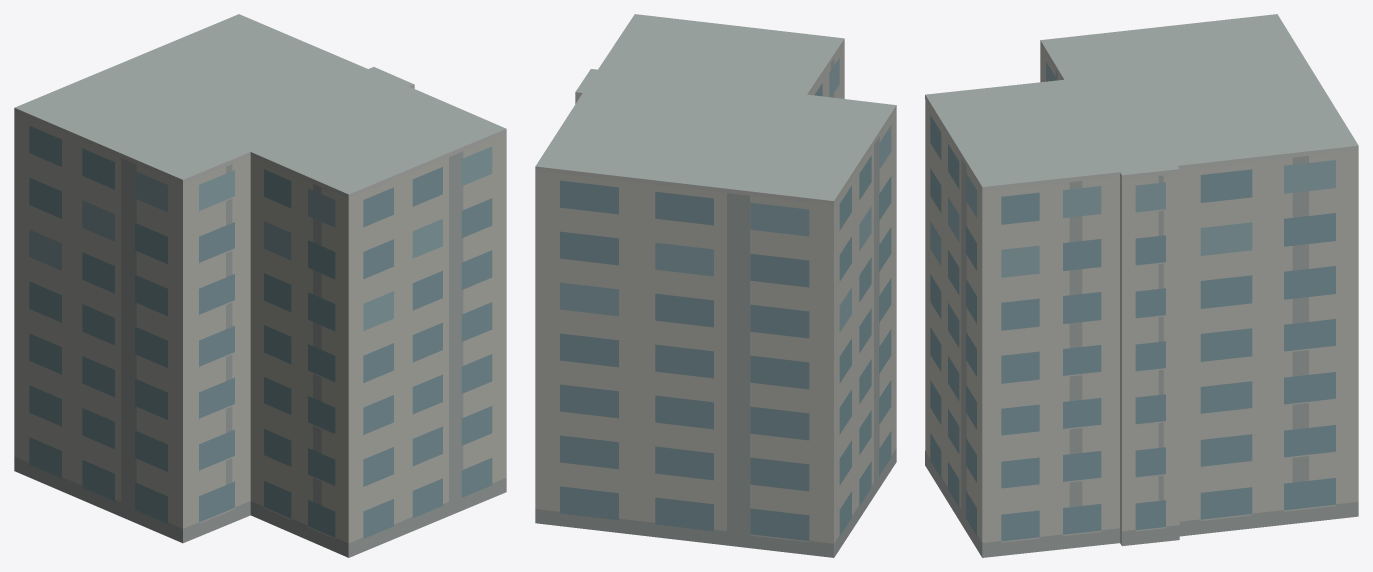
File: survey-upis-33015640.glb
3 views of the same model, side by side, from view 1: azimuth 30°, elevation 25°; view 2: azimuth 150°, elevation 25°; view 3: azimuth 270°, elevation 25° (orthographic). The views are drawn at different scales.
Parts seen in each view (by area): view 1: survey-upis-33015640.tmp; view 2: survey-upis-33015640.tmp; view 3: survey-upis-33015640.tmp.
Part boxes in pixels (x1=…): survey-upis-33015640.tmp: x1=14, y1=14, x2=506, y2=557; survey-upis-33015640.tmp: x1=535, y1=14, x2=896, y2=557; survey-upis-33015640.tmp: x1=925, y1=14, x2=1358, y2=557.
Bounding box in the file's own units: 19.73 × 19.7 × 20.89.
